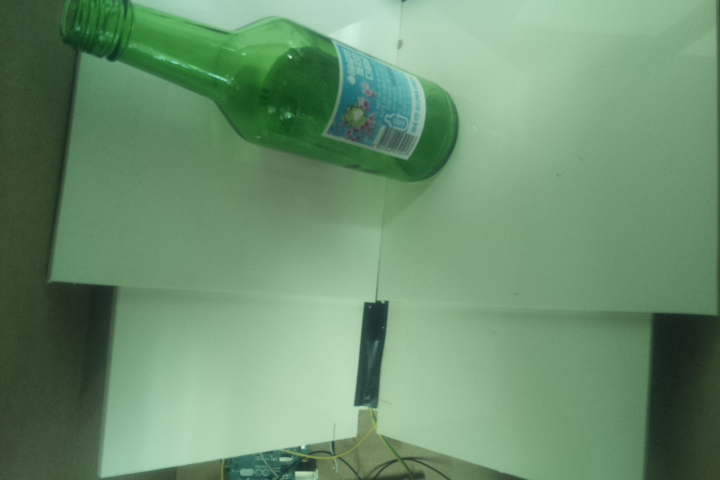soju: (59, 1, 459, 184)
